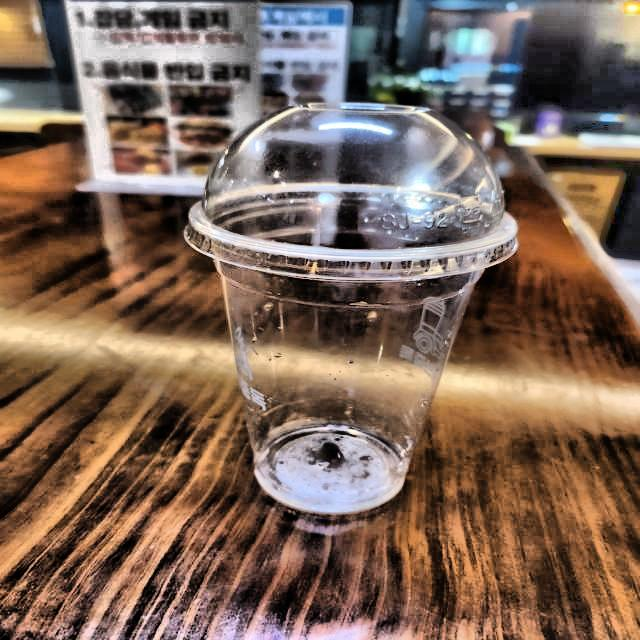plastic cup: (178, 83, 529, 550)
